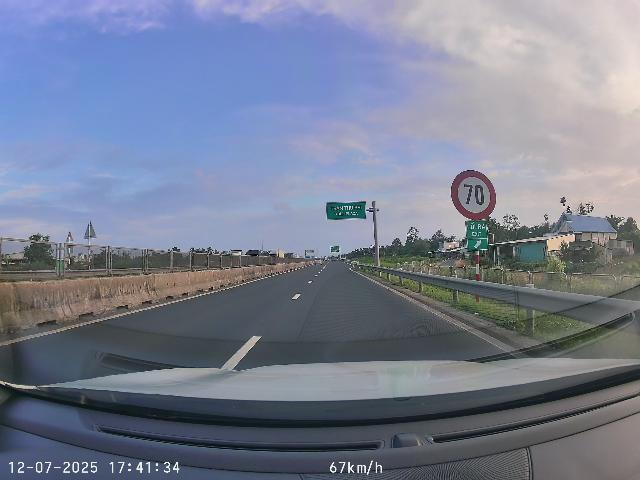127-toc-do-toi-da-70: (450, 169, 497, 221)
